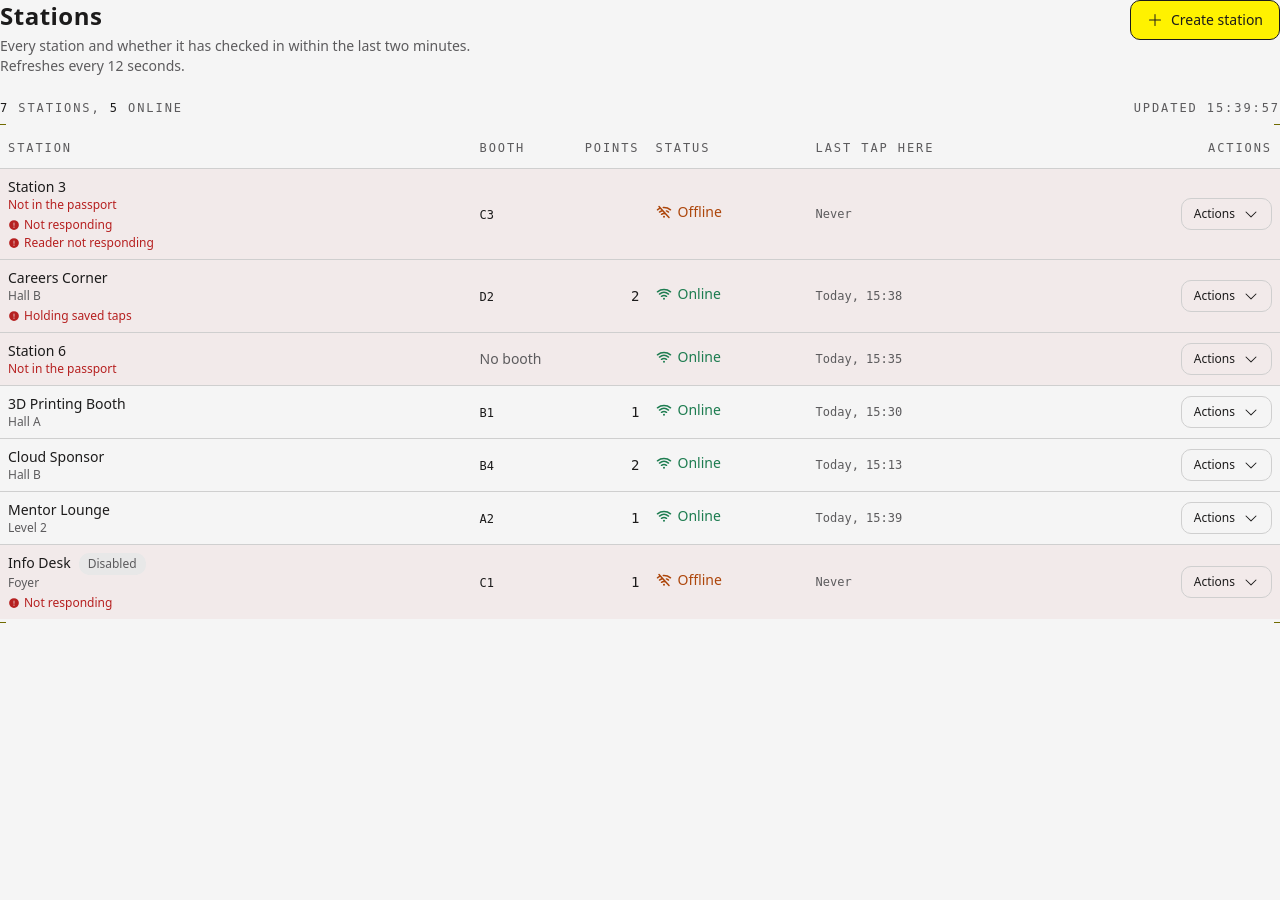
Test: passport settings on the station board › fills the form with the current settings when editing
Click the button "Actions" in the row of "3D Printing Booth". click: (1226, 412)
box: [1181,396,1272,428]
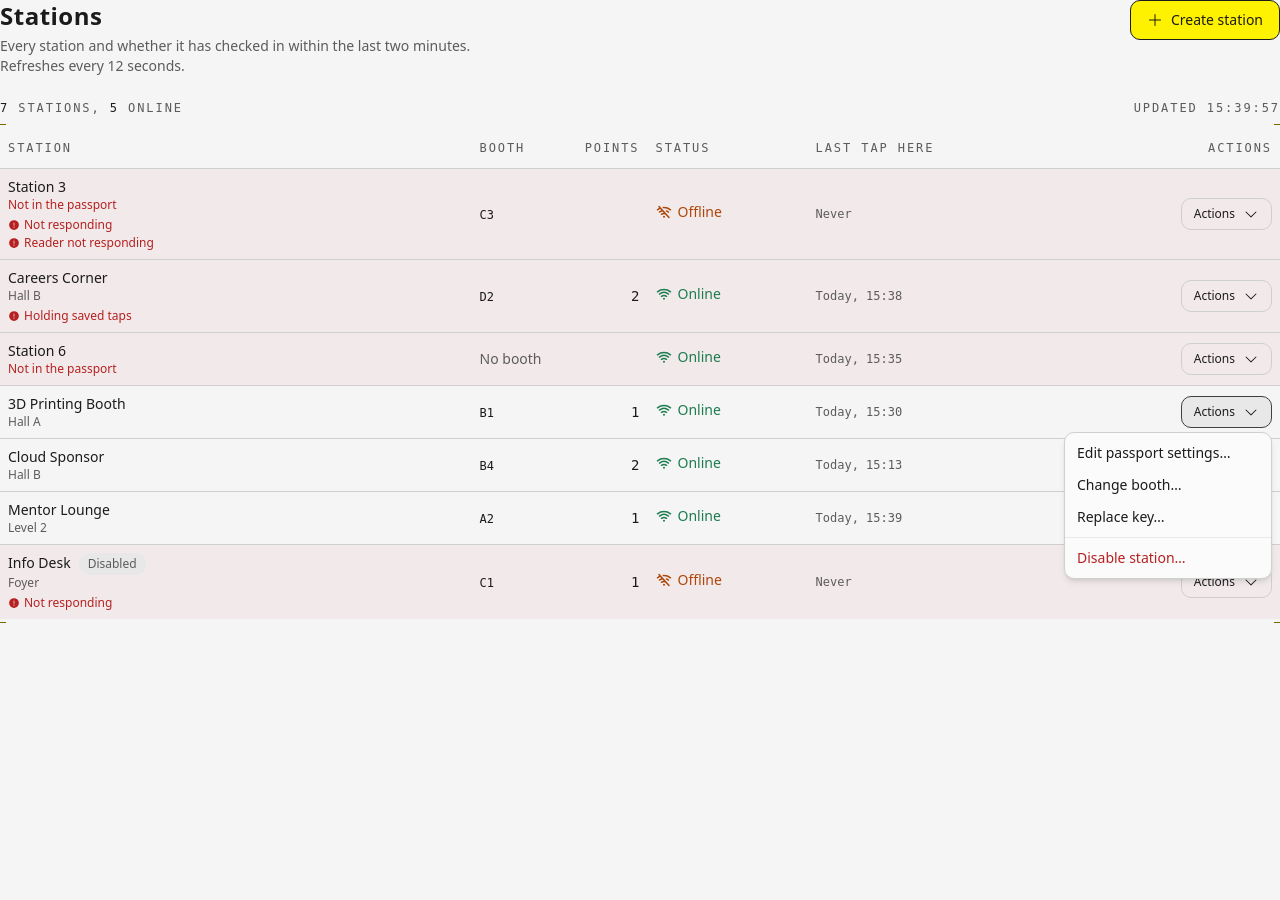
Result: the menu is shown at [1064,432,1272,579]
Click the menu item "Edit passport settings…". click: (1154, 452)
box: [1077,443,1230,462]
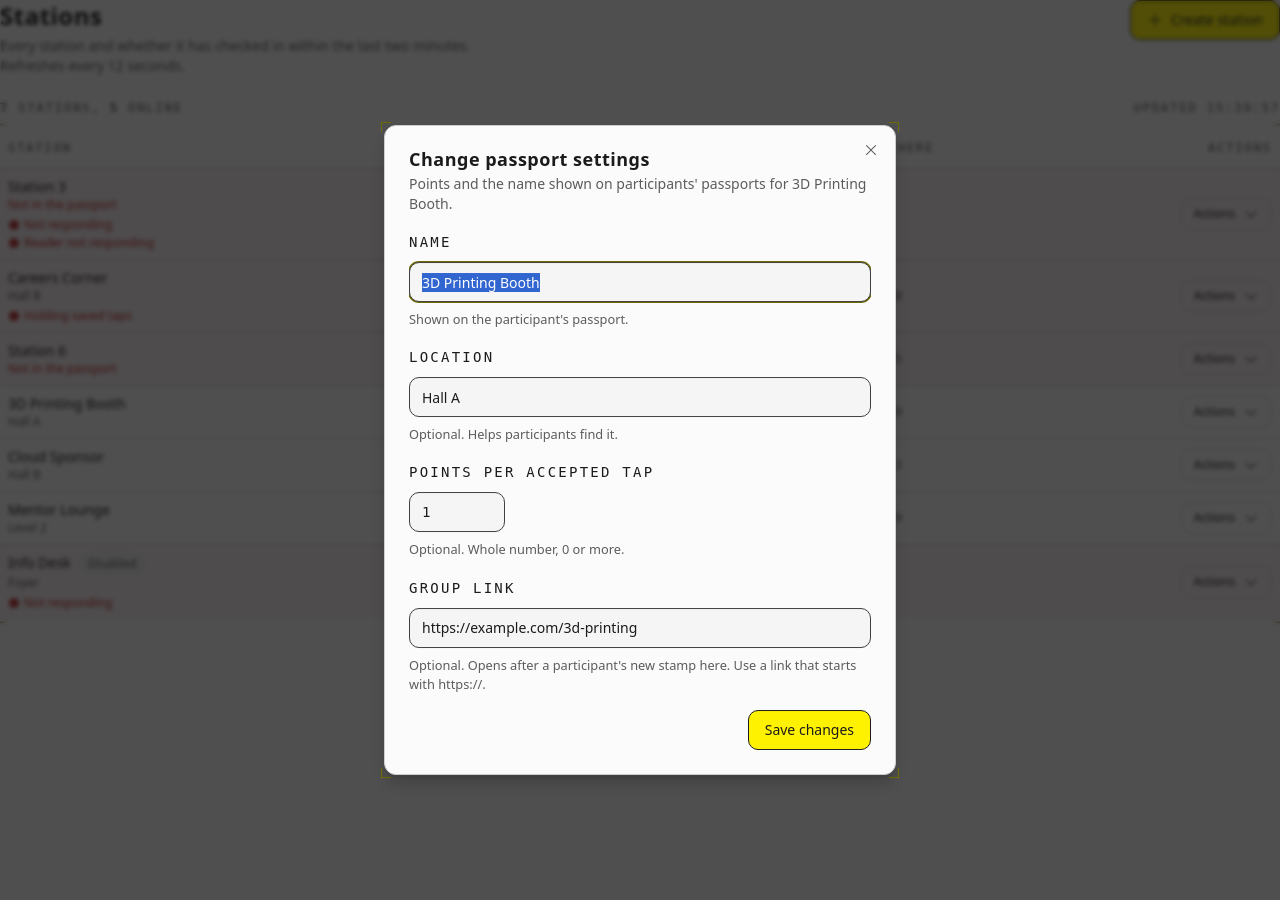
Result: the field labelled "Name" holds "3D Printing Booth" at [409,262,871,302]
Result: the field labelled "Location" holds "Hall A" at [409,377,871,417]
Result: the field labelled "Points per accepted tap" holds "1" at [409,492,505,532]
